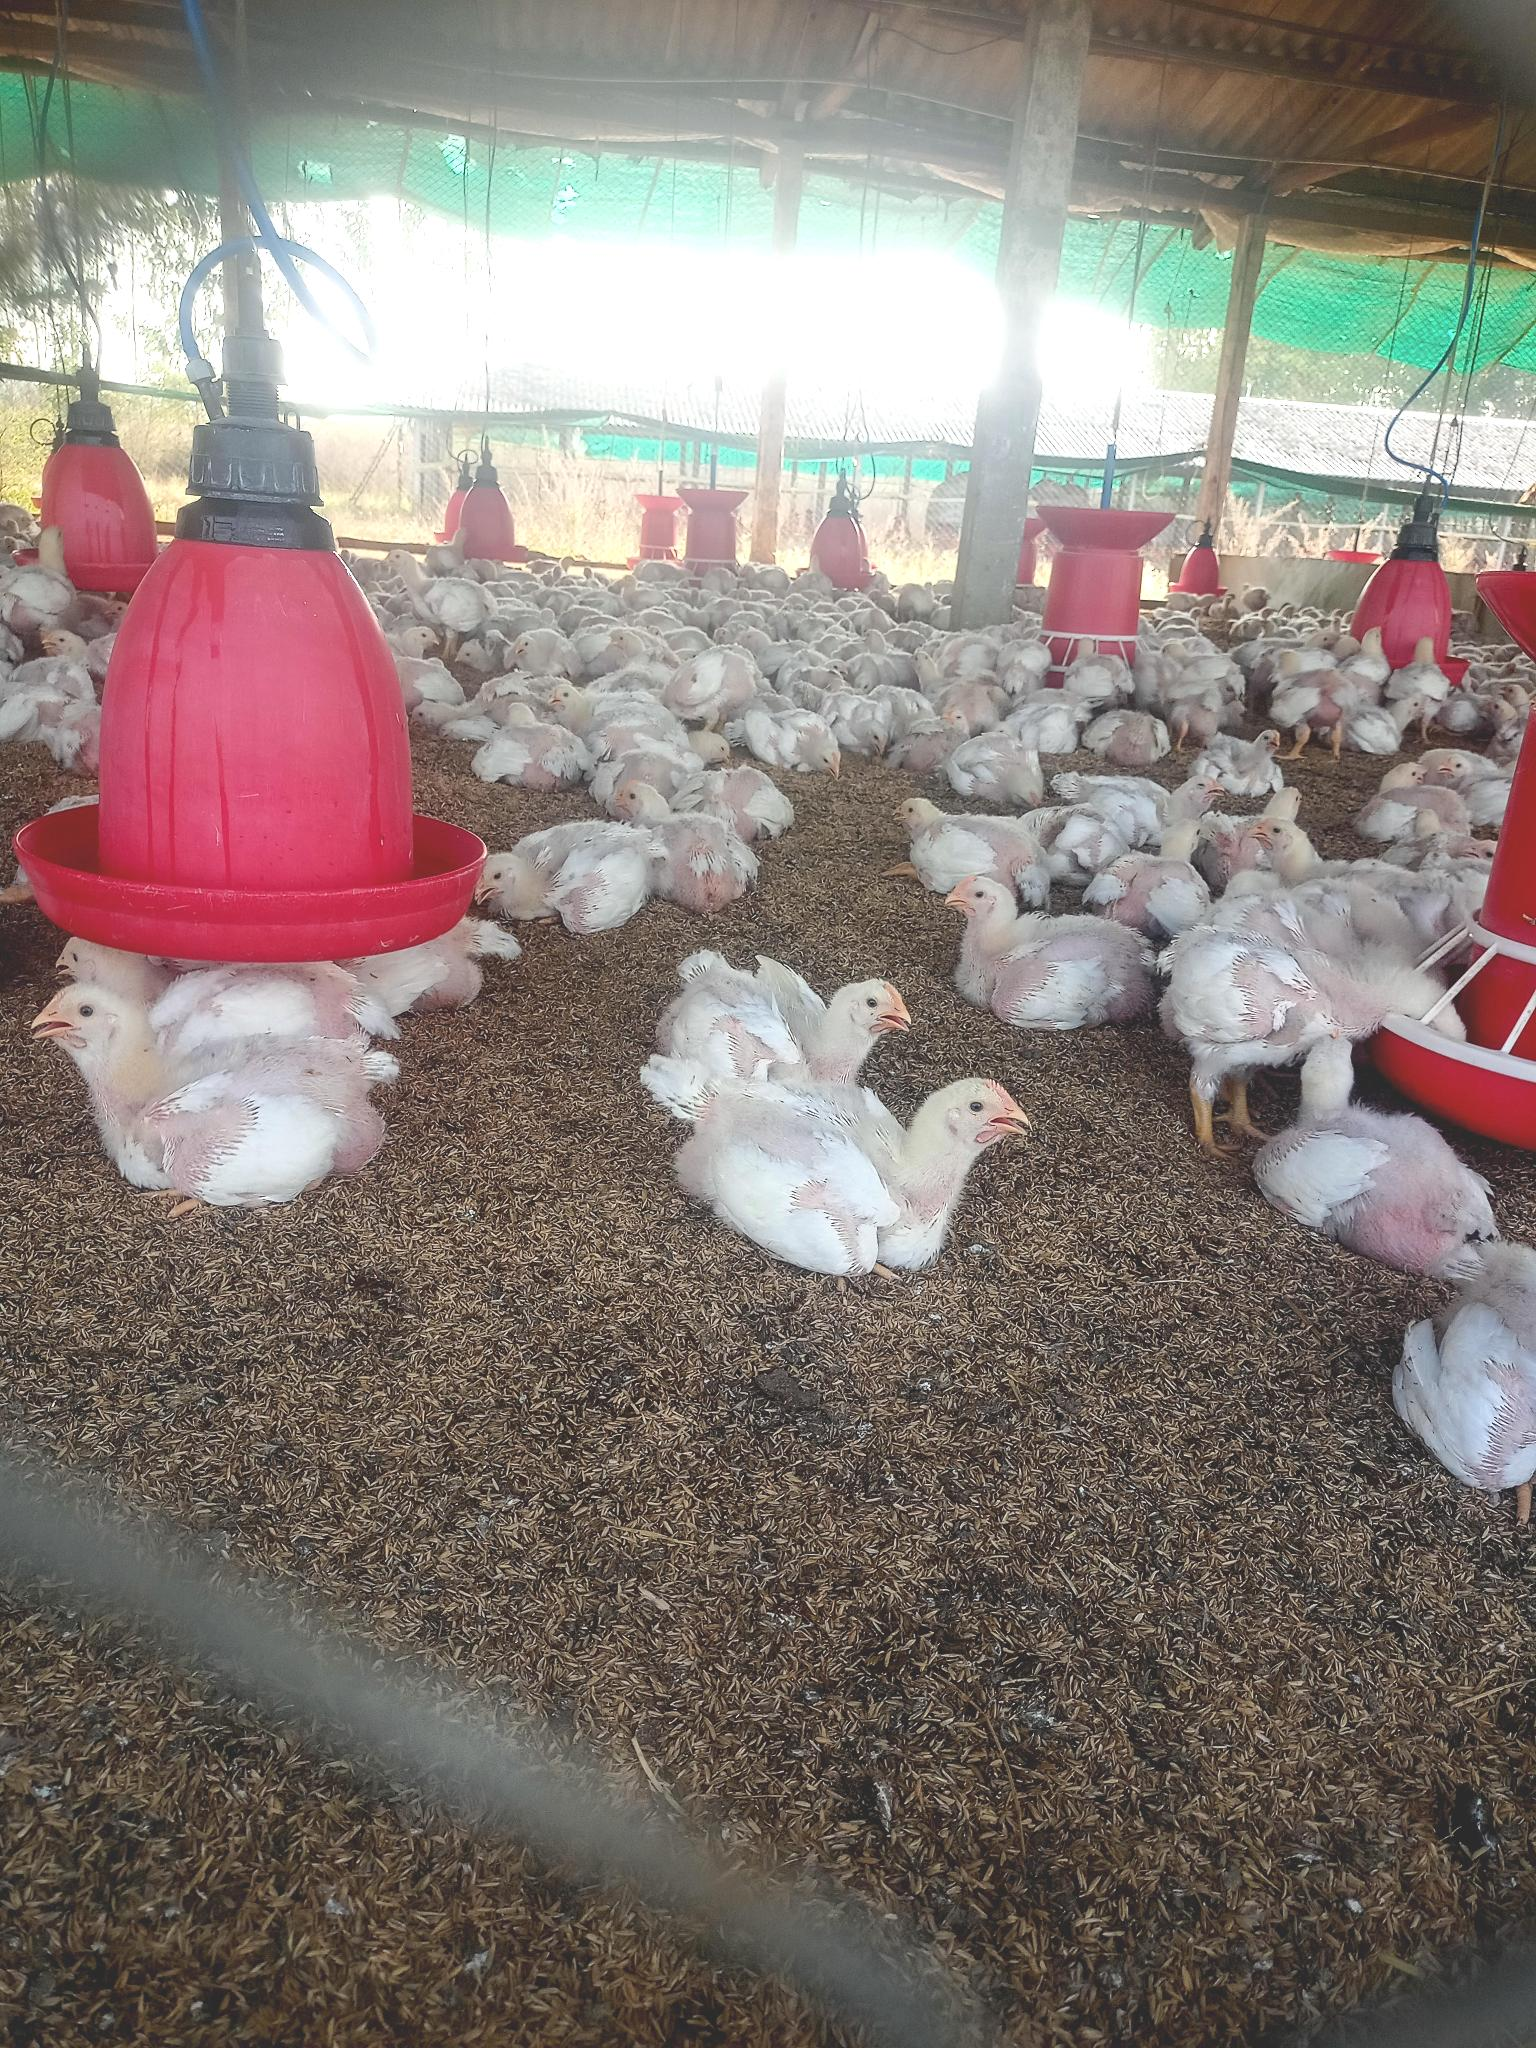Pollos: (29, 982, 400, 1213), (668, 1063, 1039, 1263), (939, 876, 1155, 1027), (662, 951, 912, 1079), (478, 822, 666, 935)
